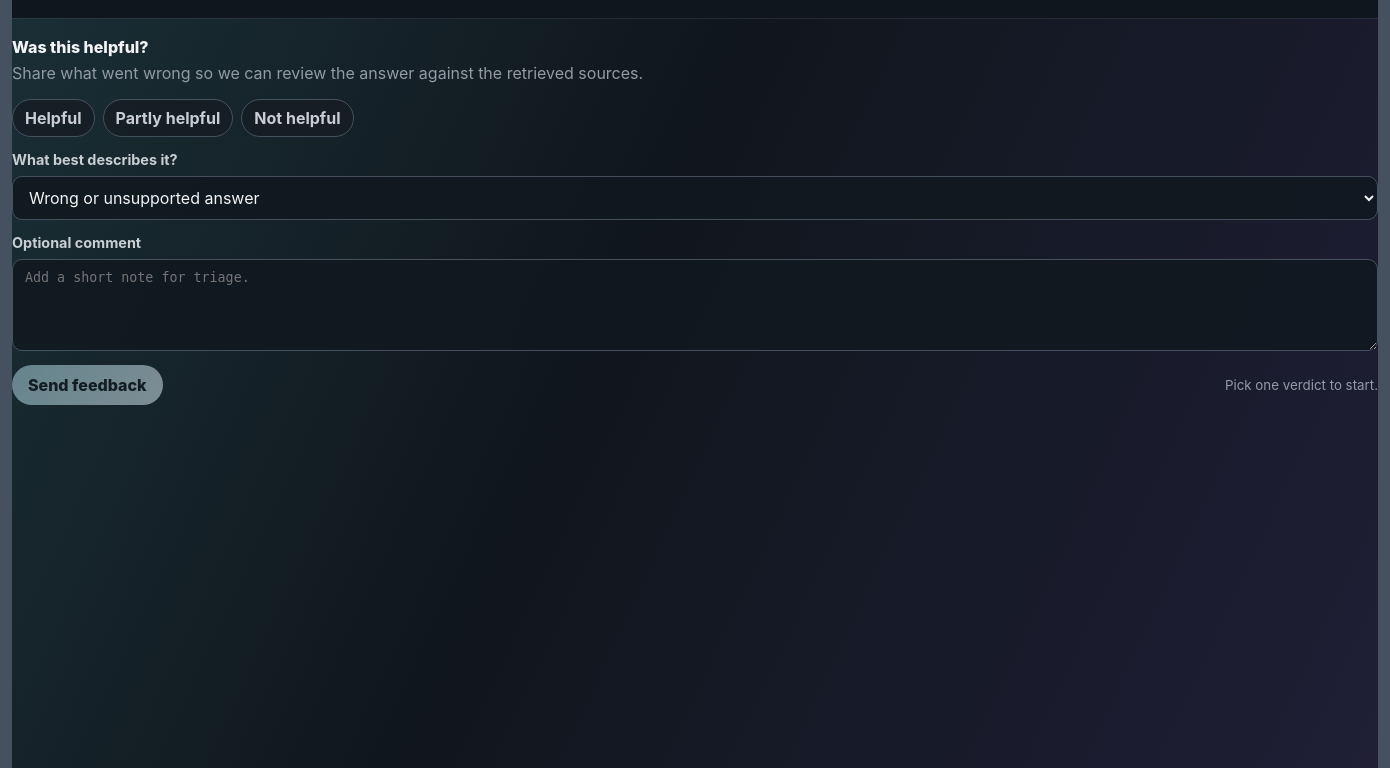
Test case: shows a friendly error when the history entry is missing
This screenshot has width=1390, height=768.
Click the button "Not helpful" at (297, 118), box [241, 99, 354, 137]
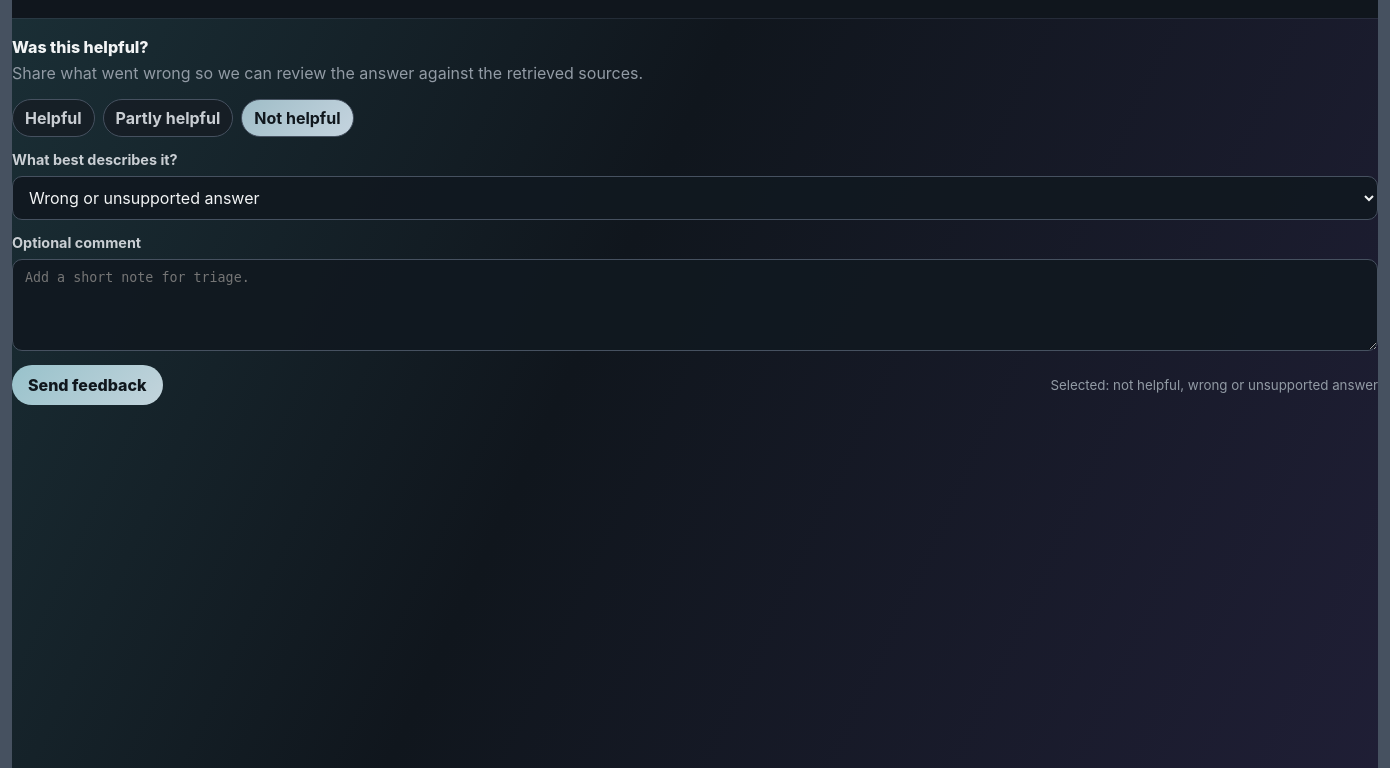
Click the button "Send feedback" at (87, 385), box [12, 365, 162, 405]
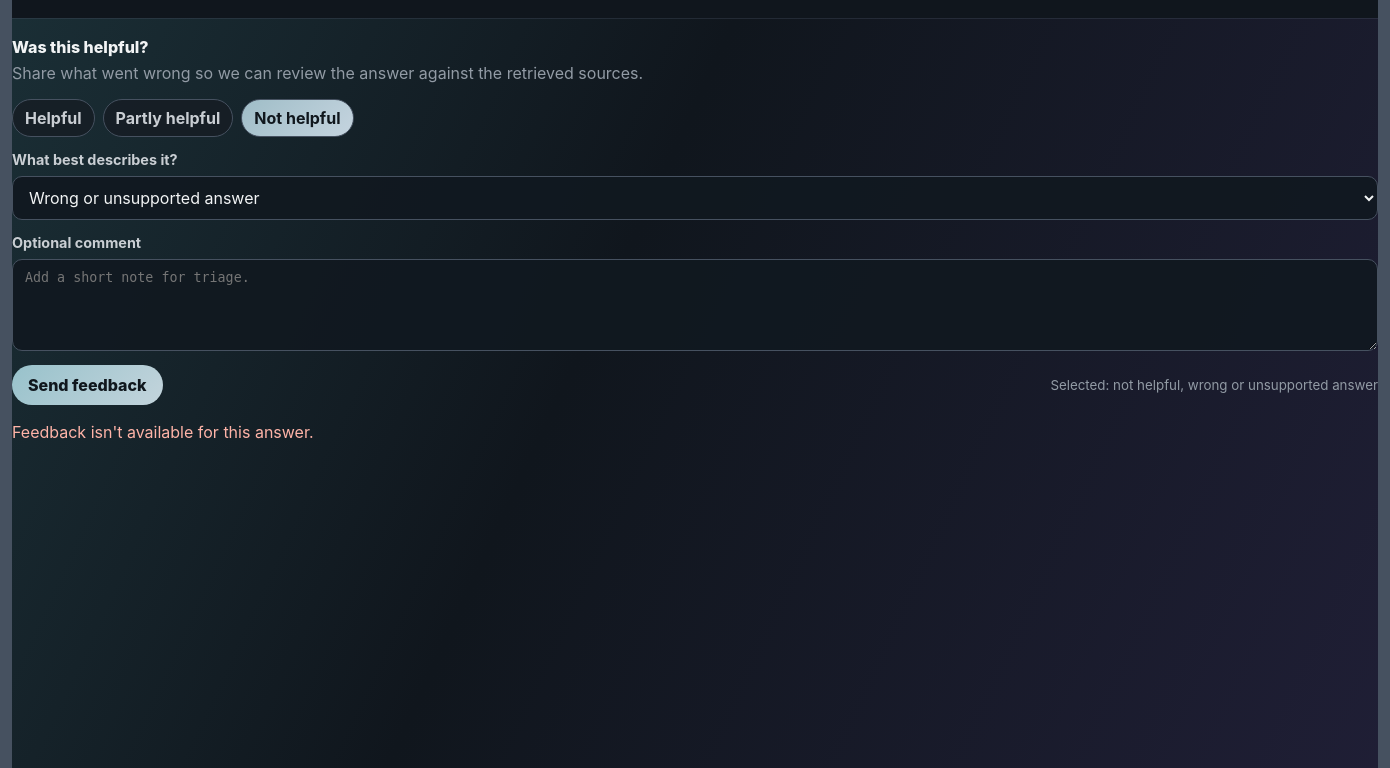
expect the text "Feedback isn't available for this answer." is shown: met, box [12, 422, 314, 442]
